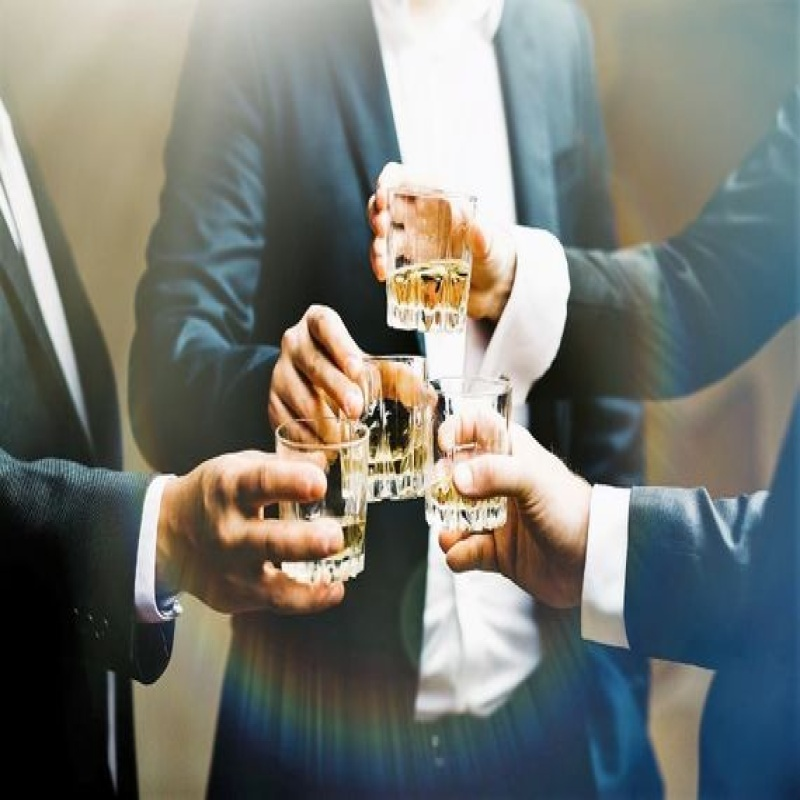whiskey: (417, 375, 509, 531), (383, 189, 484, 328), (281, 427, 367, 580)
